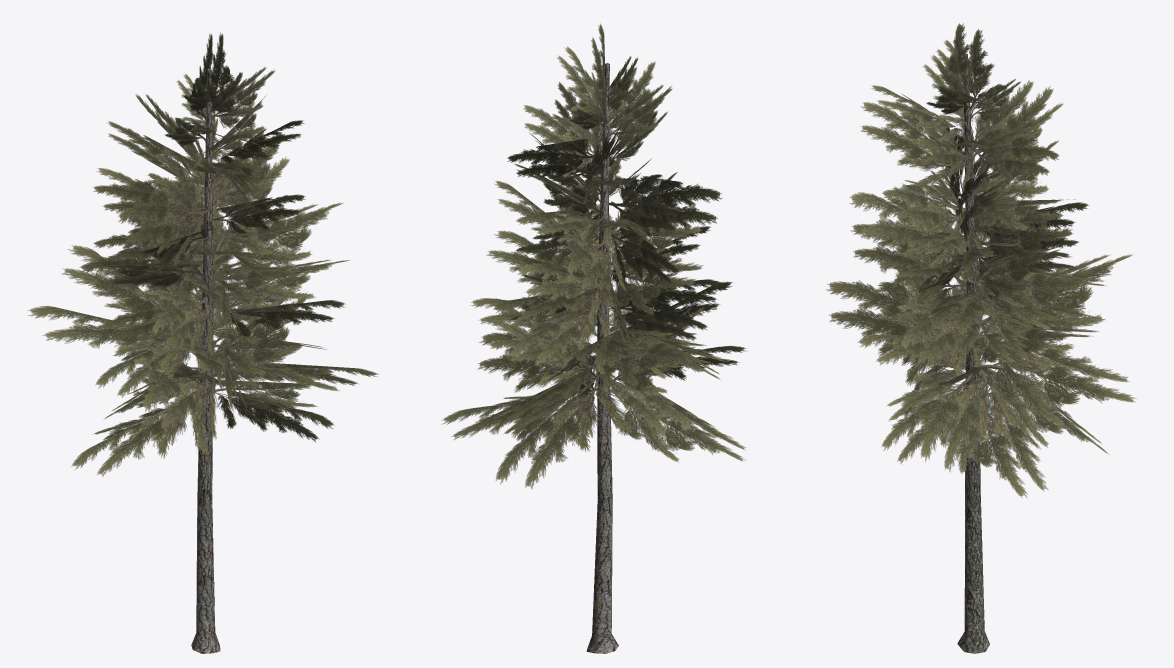
File: pain_tree.glb
3 views of the same model, side by side, from view 1: azimuth 30°, elevation 25°; view 2: azimuth 150°, elevation 25°; view 3: azimuth 270°, elevation 25° (orthographic).
Parts seen in each view (by area): view 1: Pine_tree; view 2: Pine_tree; view 3: Pine_tree.
Part boxes in pixels (x1=…): Pine_tree: x1=28, y1=32, x2=378, y2=653; Pine_tree: x1=441, y1=23, x2=746, y2=653; Pine_tree: x1=826, y1=23, x2=1136, y2=653.
Size of the model in its own units: 2.99 by 5.32 by 2.7.
1 material, 1 textured.
